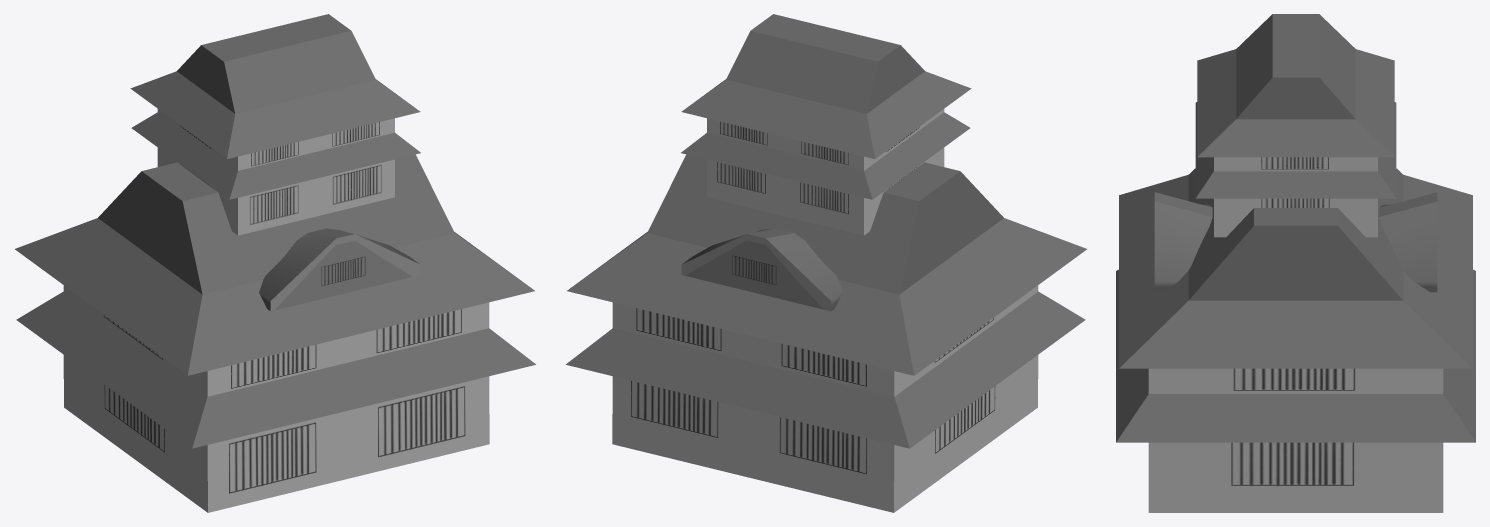
The model's file is House_L.FBX.
3 renders of one model, left to right at view 1: azimuth 30°, elevation 25°; view 2: azimuth 150°, elevation 25°; view 3: azimuth 270°, elevation 25°, orthographic. The views are drawn at different scales.
Visible parts, largest first — view 1: Box004, Box002, Box003; view 2: Box004, Box002, Box005; view 3: Box004, Box002, Box003, Box005.
Part boxes in pixels (x1,y1,x2,y2): Box004: [15, 154, 535, 512]; Box002: [130, 14, 420, 235]; Box003: [259, 228, 420, 311]; Box004: [566, 154, 1086, 512]; Box002: [681, 14, 971, 235]; Box005: [681, 228, 842, 311]; Box004: [1116, 168, 1475, 512]; Box002: [1195, 14, 1396, 237]; Box003: [1154, 192, 1212, 292]; Box005: [1379, 192, 1437, 292].
Bounding box in the file's own units: 42.84 × 37.57 × 45.69.
